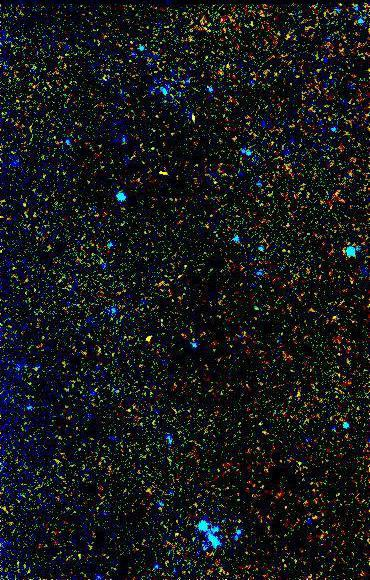star: (135, 324, 165, 354)
